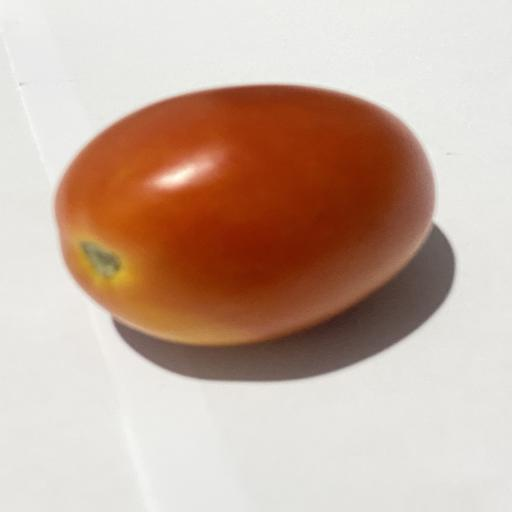ripe: (56, 85, 434, 345)
